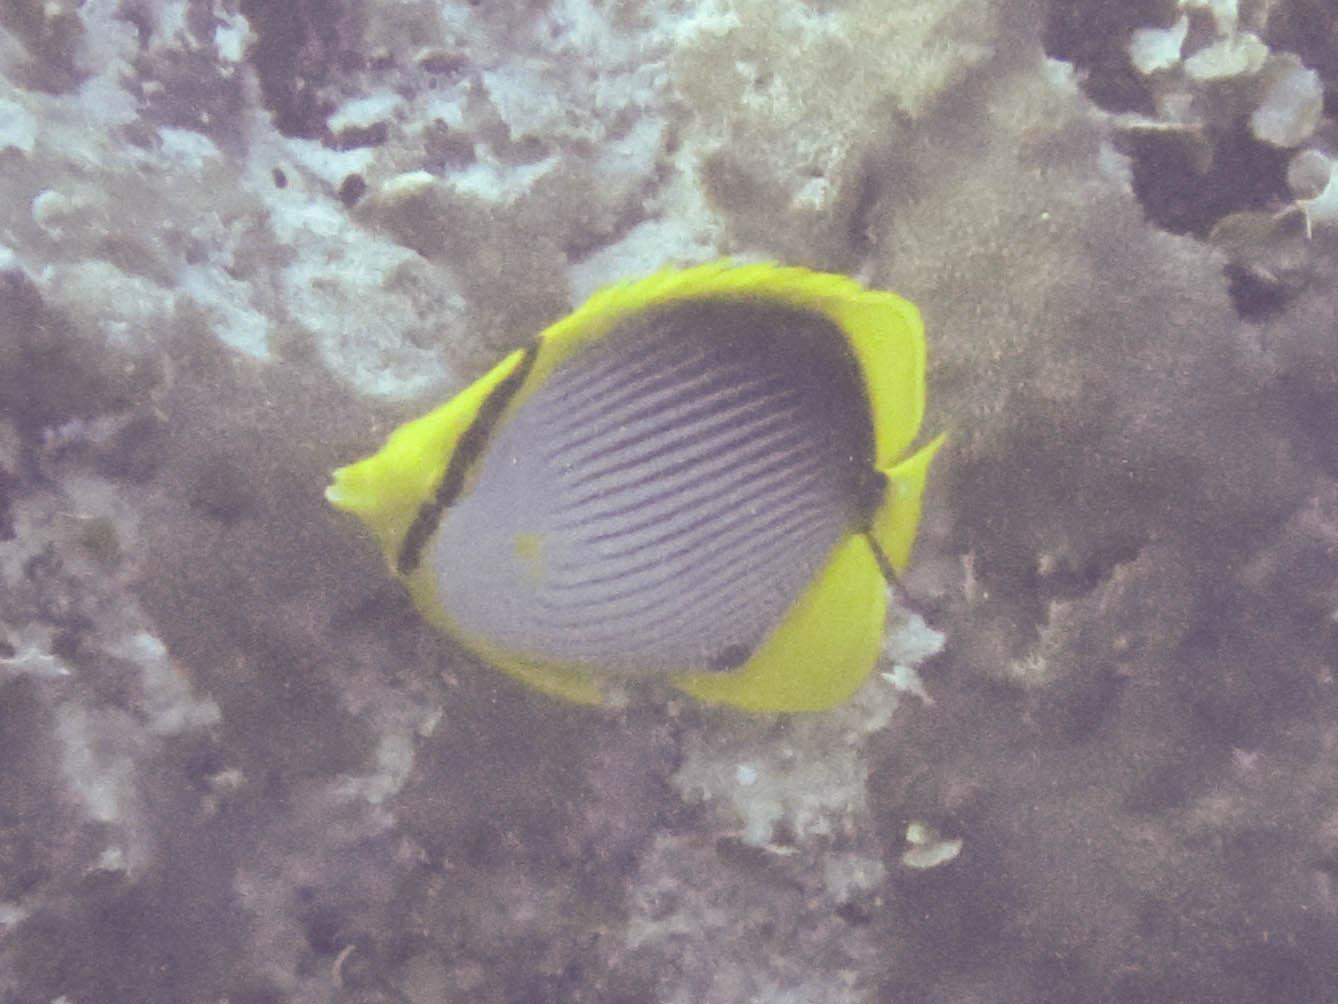Fish: (309, 254, 964, 740)
